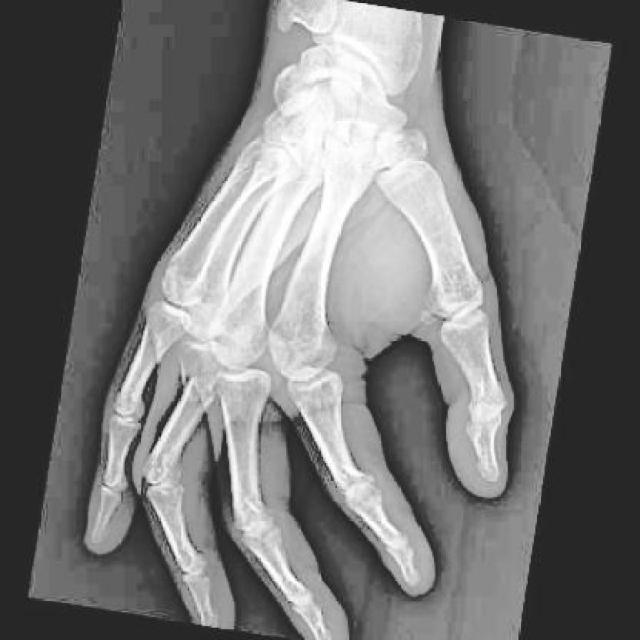Fracture: (176, 365, 222, 414)
